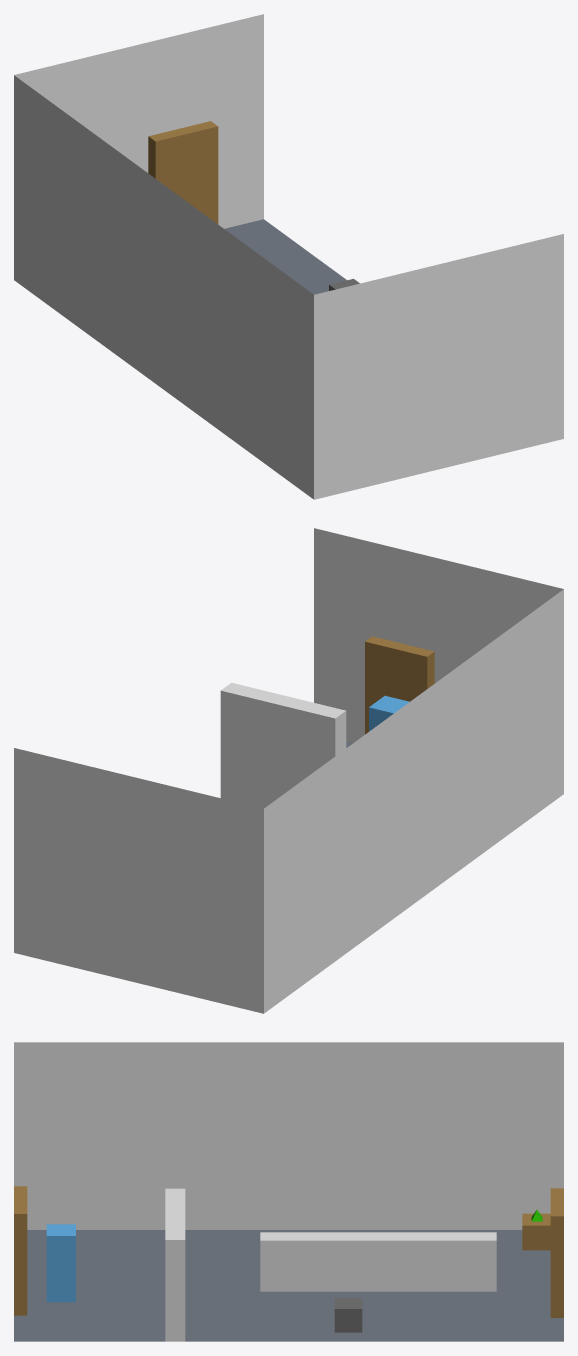
3 renders of one model, top to bottom at view 1: azimuth 30°, elevation 25°; view 2: azimuth 150°, elevation 25°; view 3: azimuth 270°, elevation 25°, orthographic. The views are drawn at different scales.
Parts seen in each view (by area): view 1: cuarto.001, puerta; view 2: cuarto.001, pared, puerta.003, ninio.001; view 3: cuarto.001, pared.004, pared, ninio.001, puerta, puerta.003, cajon.001, gato.001.
Boxes of the visible parts, bbox=[...] form: cuarto.001: bbox=[14, 14, 563, 499]; puerta: bbox=[148, 121, 218, 224]; cuarto.001: bbox=[14, 528, 563, 1013]; pared: bbox=[220, 682, 346, 808]; puerta.003: bbox=[365, 636, 434, 734]; ninio.001: bbox=[369, 695, 409, 731]; cuarto.001: bbox=[14, 1042, 563, 1341]; pared.004: bbox=[260, 1232, 496, 1291]; pared: bbox=[165, 1188, 185, 1341]; ninio.001: bbox=[46, 1224, 75, 1302]; puerta: bbox=[550, 1188, 563, 1317]; puerta.003: bbox=[14, 1186, 27, 1315]; cajon.001: bbox=[522, 1213, 550, 1250]; gato.001: bbox=[334, 1298, 362, 1332].
Bounding box in the file's own units: 471 × 369 × 980.
